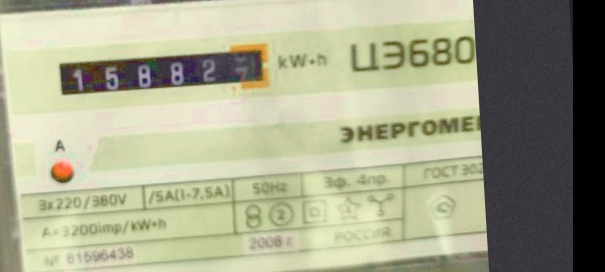1: (71, 66, 86, 92)
2: (200, 56, 217, 81)
5: (103, 63, 120, 90)
7: (234, 62, 249, 82)
8: (136, 62, 153, 89), (169, 59, 185, 85)
screen: (44, 34, 280, 110)
